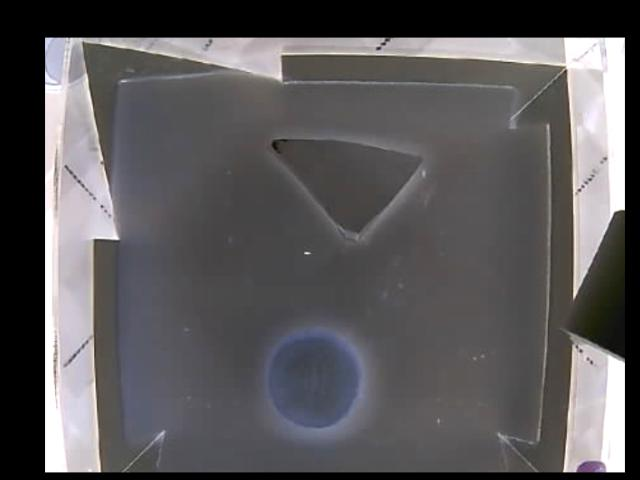China: (270, 138, 424, 241)
Mooli: (267, 327, 362, 427)
